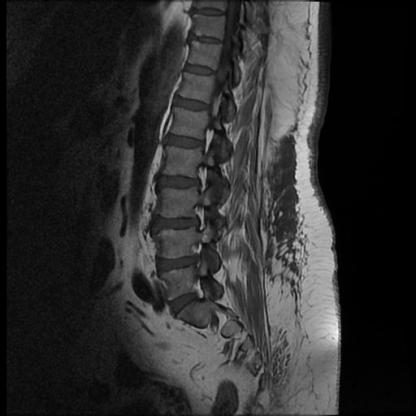Degenerative Disc Diseaserotation: (158, 255, 198, 275)
Disc Bulgerotation: (152, 214, 197, 234), (158, 255, 199, 275), (158, 173, 198, 193), (165, 133, 205, 152), (167, 292, 203, 313)
